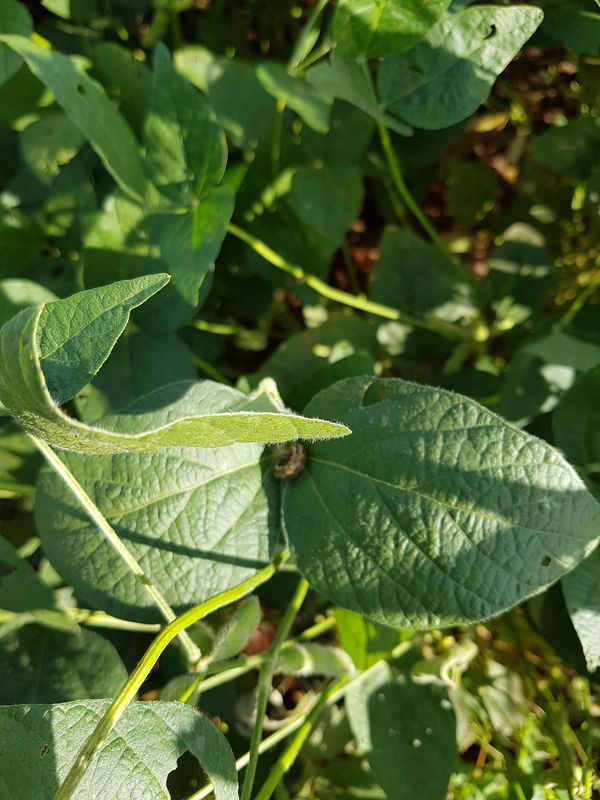Spodoptera_albula: (260, 430, 315, 488)
